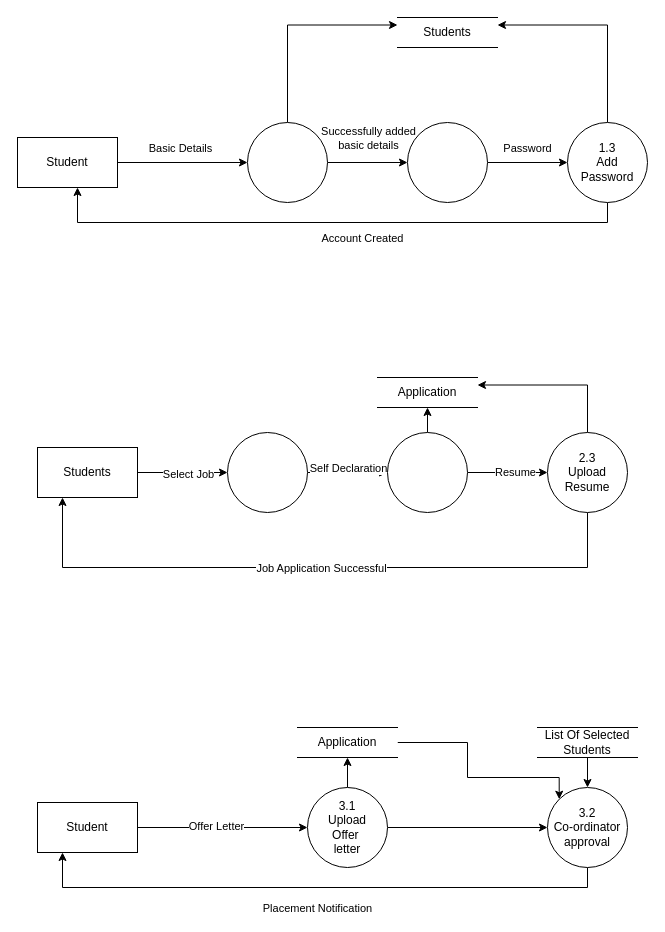
Image size: 665x932. Some labels were removed from this diagram. The shapes that lost their labels are listed below. From the top down, each one's centre as x and y in pixels, then its label:
(x=287, y=162): 1.1 Add Basic details
(x=447, y=162): 1.2 Verify Details
(x=267, y=472): 2.1 Jobs Selected
(x=427, y=472): 2.2 Upload Self Declaration
